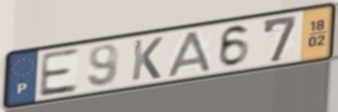6: (216, 23, 251, 69)
7: (261, 14, 299, 64)
9: (87, 43, 122, 89)
A: (165, 29, 214, 79)
E: (37, 46, 81, 100)
K: (130, 35, 165, 83)
